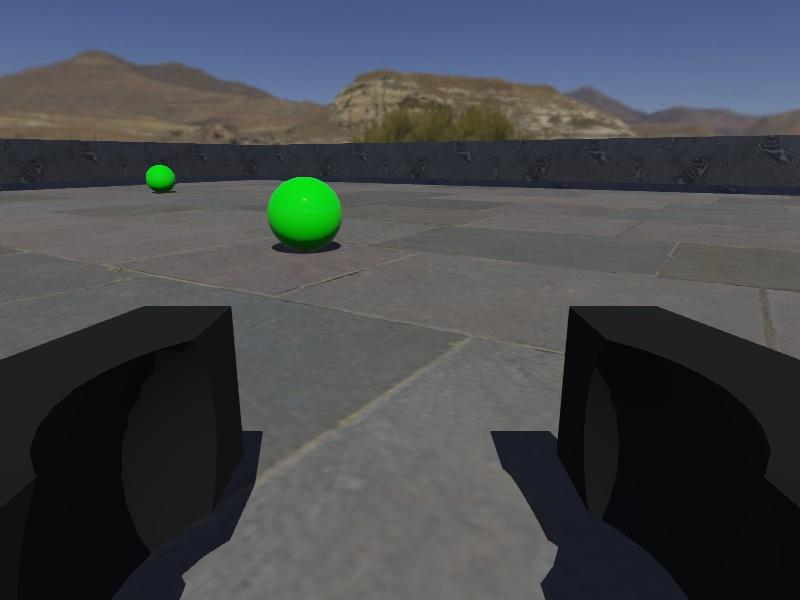green ball: (266, 175, 343, 253), (145, 163, 176, 194)
